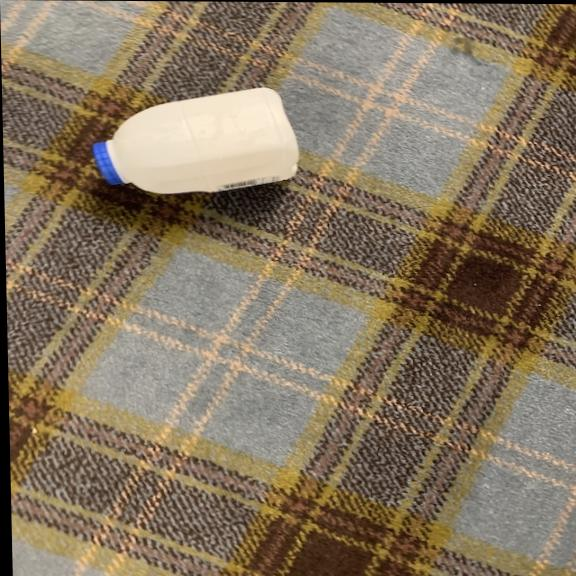Plastik: (85, 85, 303, 201)
